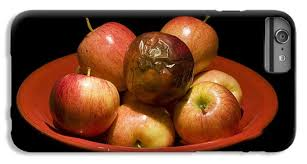apple: (48, 72, 121, 134), (71, 24, 139, 84), (172, 86, 247, 138), (112, 103, 172, 148)
damaged_apple: (127, 31, 196, 101)
